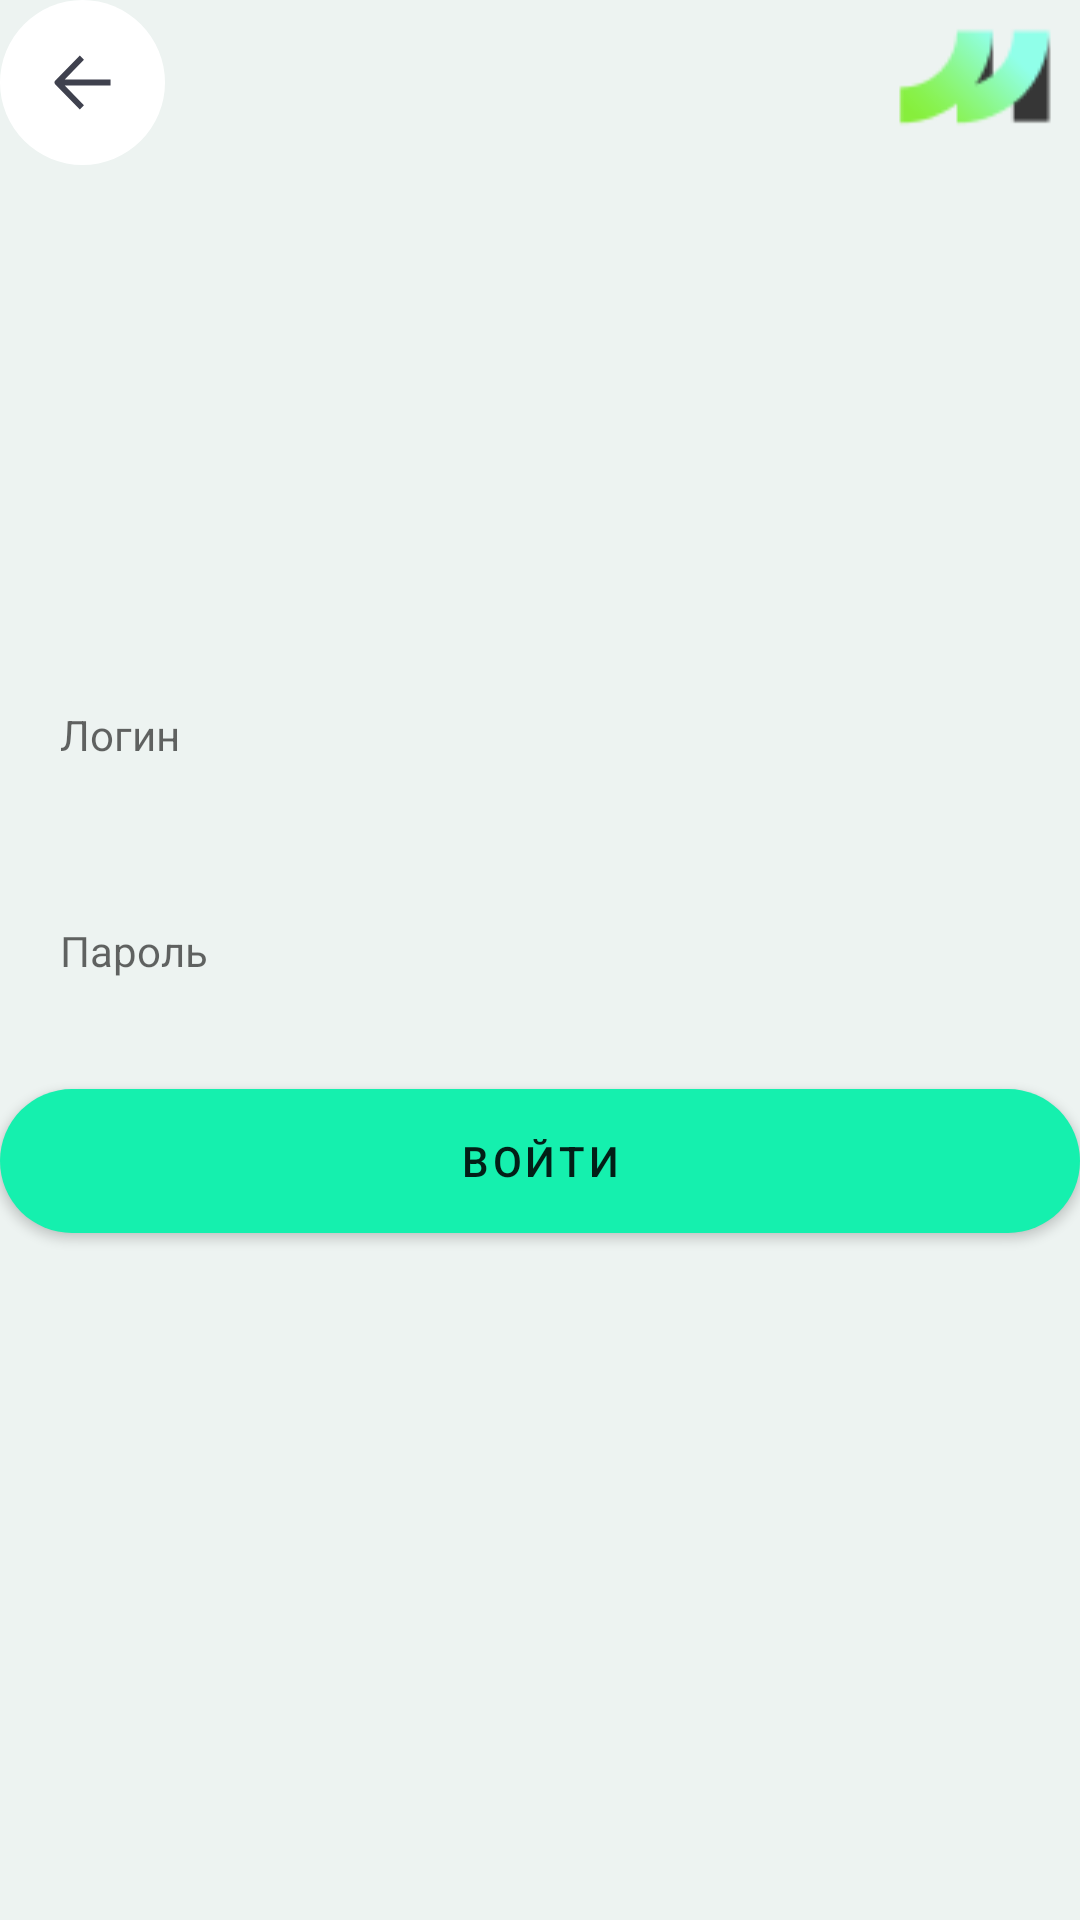

Named icons in this screenshot (1080w x 1920h) and their bounding boxes, (x1, y1, x2, y2):
back top: (0, 0, 165, 165)
